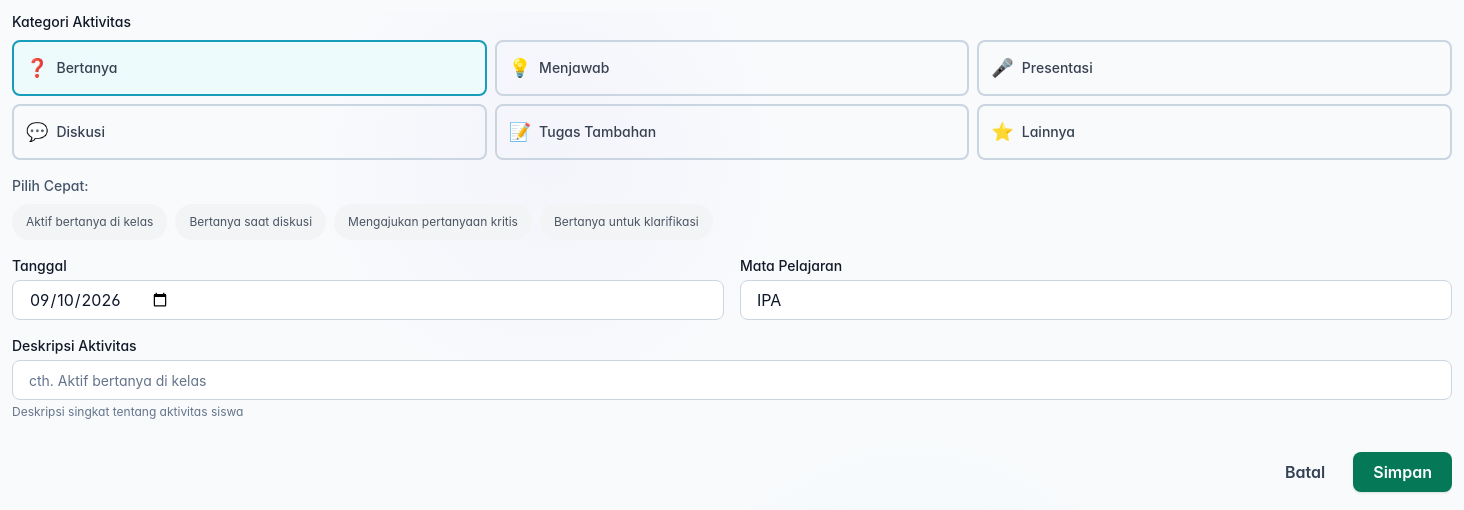
Scenario: QuizForm Component › renders suggestions when a valid category is provided and updates quiz_name on click
expect the text "Pilih Cepat:" is shown: met, box left=12, top=177, right=88, bottom=194
Click the button "Aktif bertanya di kelas" at (90, 222), box left=12, top=204, right=167, bottom=240
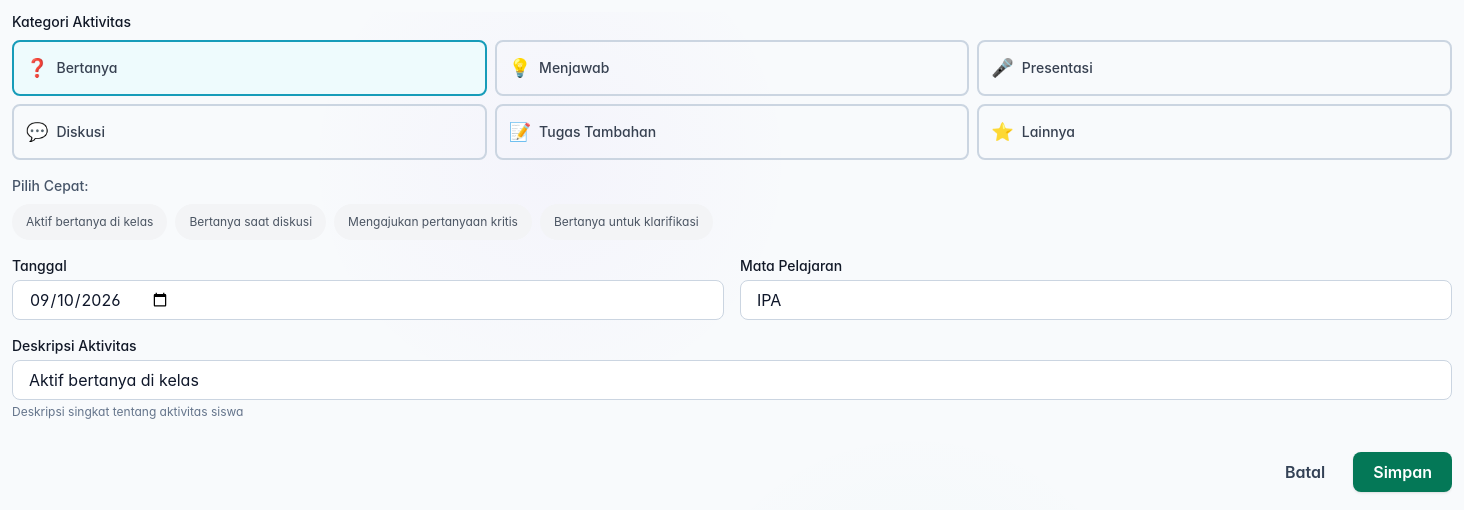
expect the field with placeholder "cth. Aktif bertanya di kelas" holds "Aktif bertanya di kelas": met, box left=12, top=360, right=1452, bottom=400
